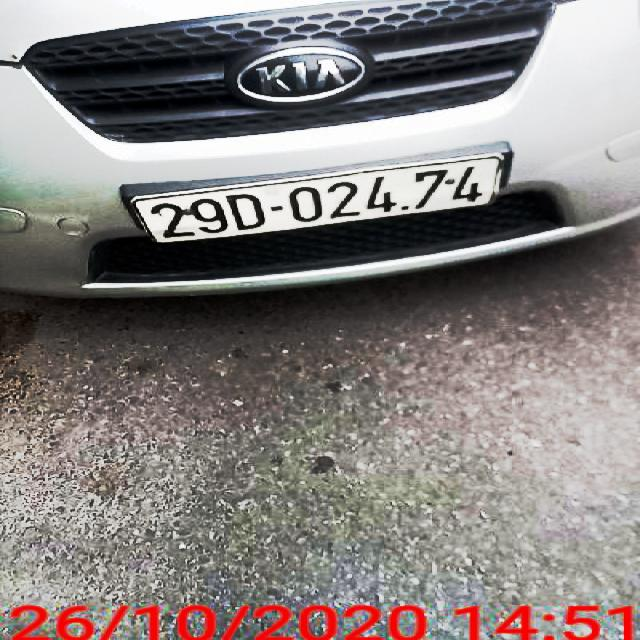license_plate: (133, 156, 501, 246)
